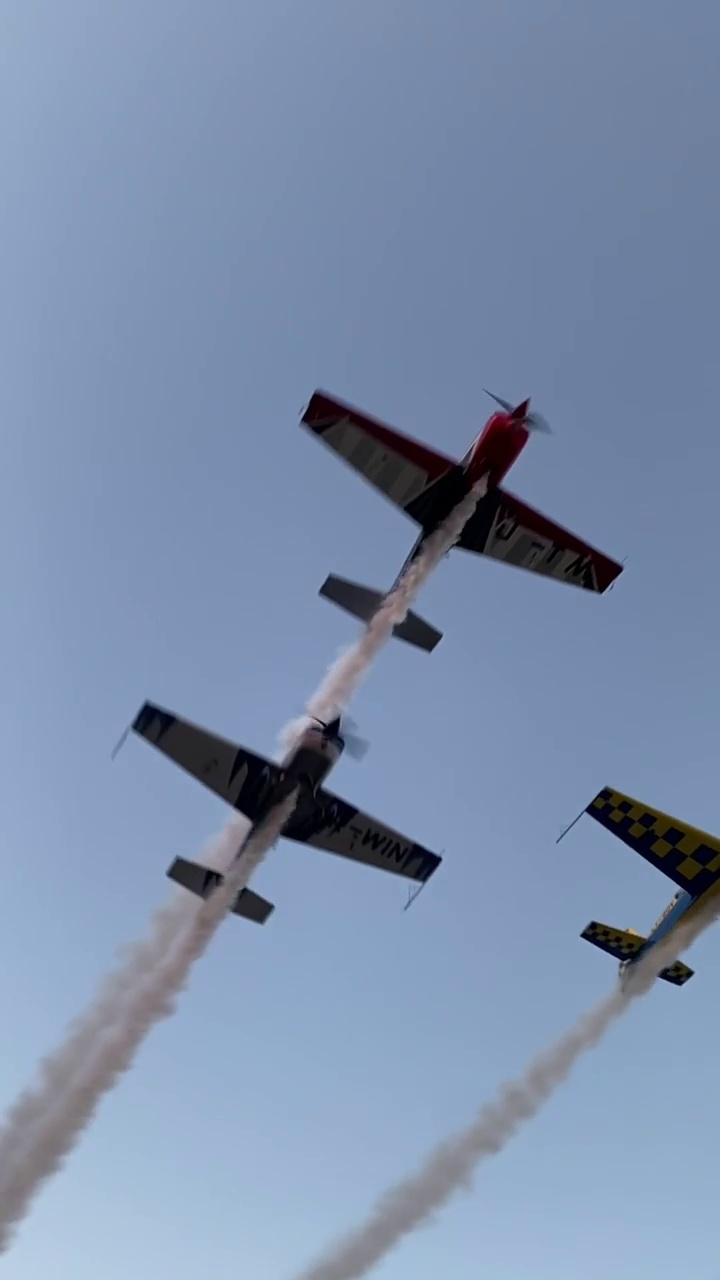plane: (267, 390, 628, 654), (111, 696, 443, 928), (557, 777, 720, 989)
